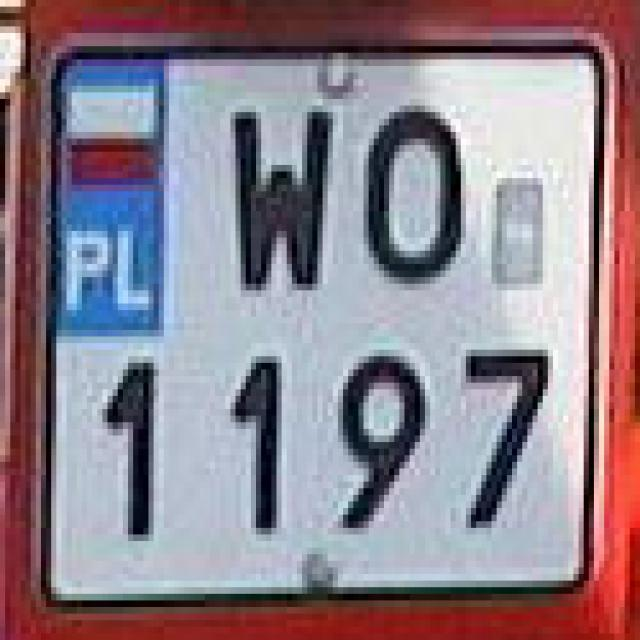pl_license_plate: (46, 39, 599, 594)
